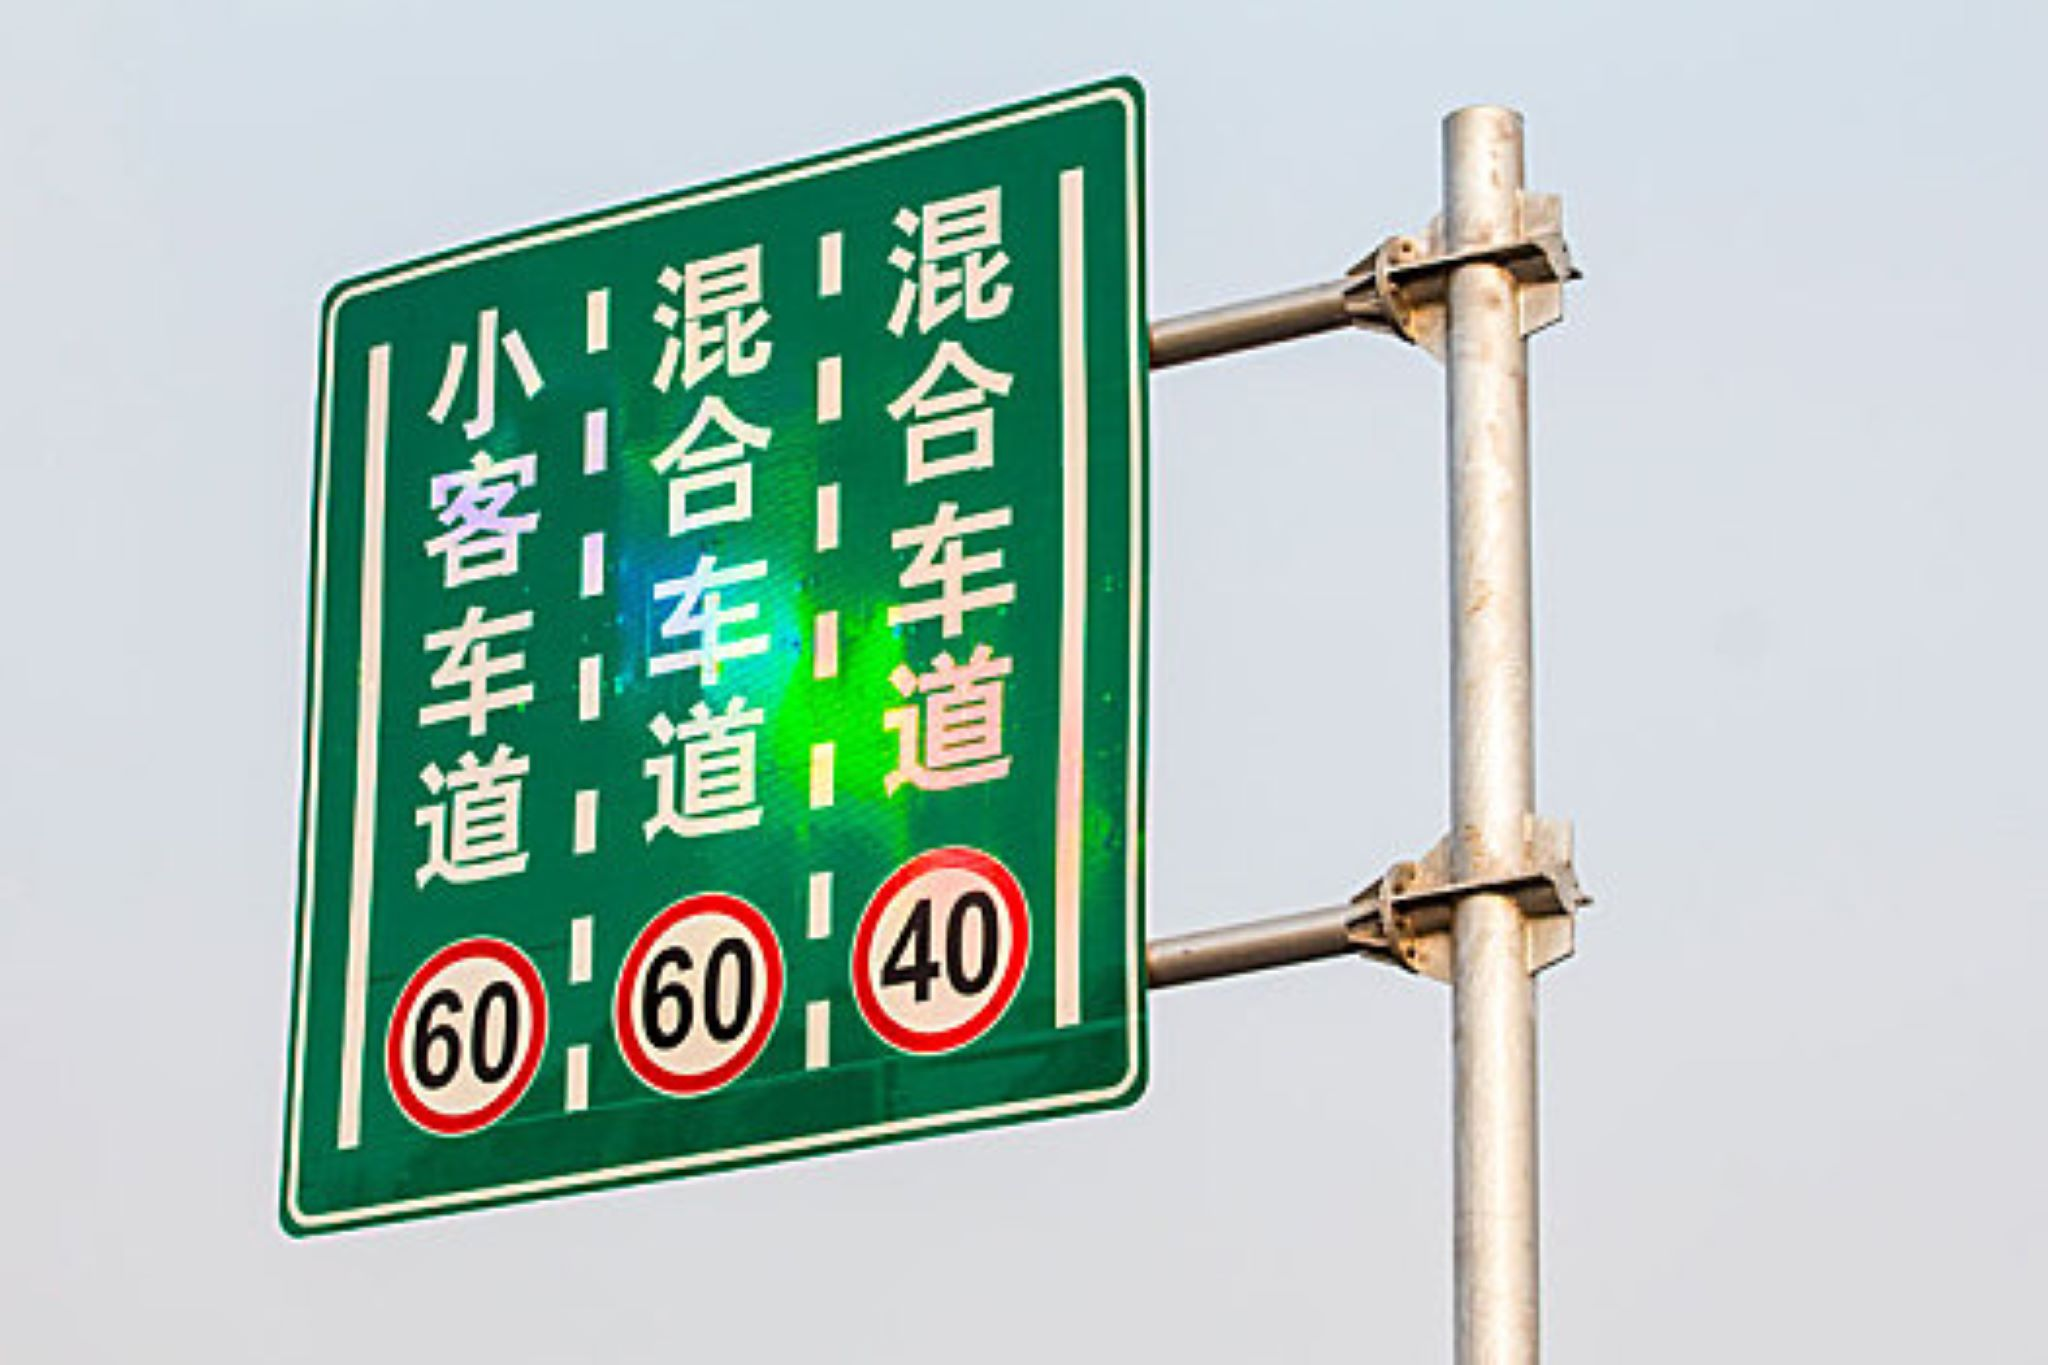pl40: (857, 844, 1023, 1056)
pl60: (605, 890, 786, 1101), (382, 925, 544, 1135)
